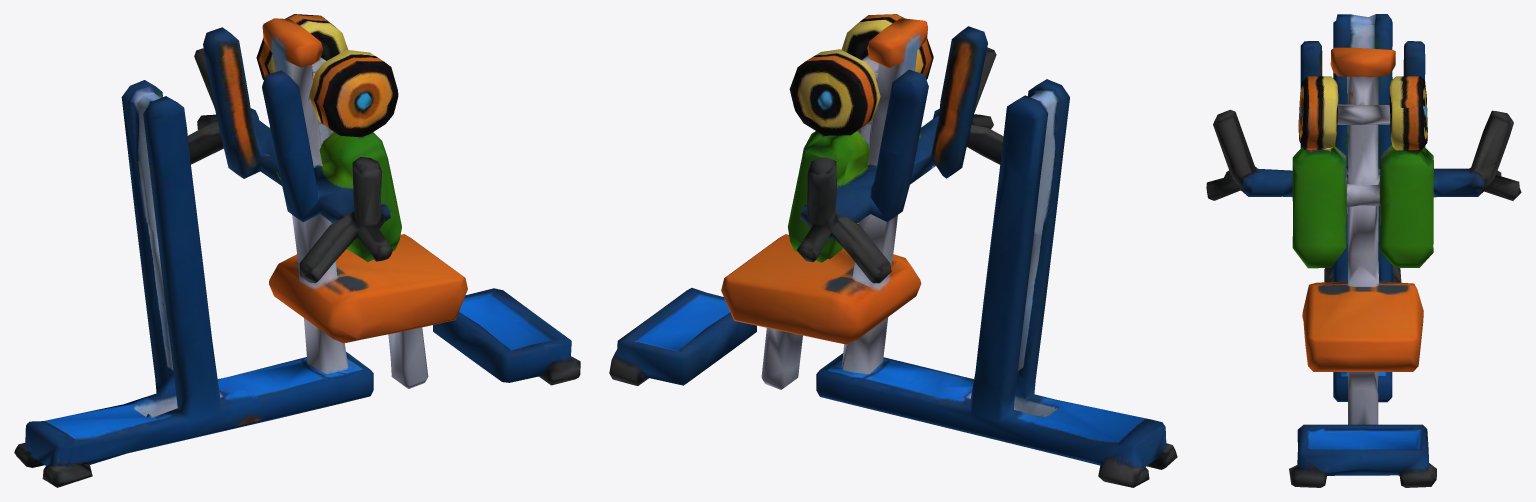
Rendered from leg-press.glb.
3 renders of one model, left to right at view 1: azimuth 30°, elevation 25°; view 2: azimuth 150°, elevation 25°; view 3: azimuth 270°, elevation 25°, orthographic. The views are drawn at different scales.
Parts seen in each view (by area): view 1: tripo_node_3ab95bd2-bb33-4471-b352-5d407f19e66e; view 2: tripo_node_3ab95bd2-bb33-4471-b352-5d407f19e66e; view 3: tripo_node_3ab95bd2-bb33-4471-b352-5d407f19e66e.
Part boxes in pixels (x1,y1,x2,y2): tripo_node_3ab95bd2-bb33-4471-b352-5d407f19e66e: [14, 14, 580, 487]; tripo_node_3ab95bd2-bb33-4471-b352-5d407f19e66e: [609, 14, 1177, 487]; tripo_node_3ab95bd2-bb33-4471-b352-5d407f19e66e: [1206, 14, 1521, 487].
Bounding box in the file's own units: 0.9978 × 0.7162 × 0.6115.
Materials: 1 (1 with a texture image).
